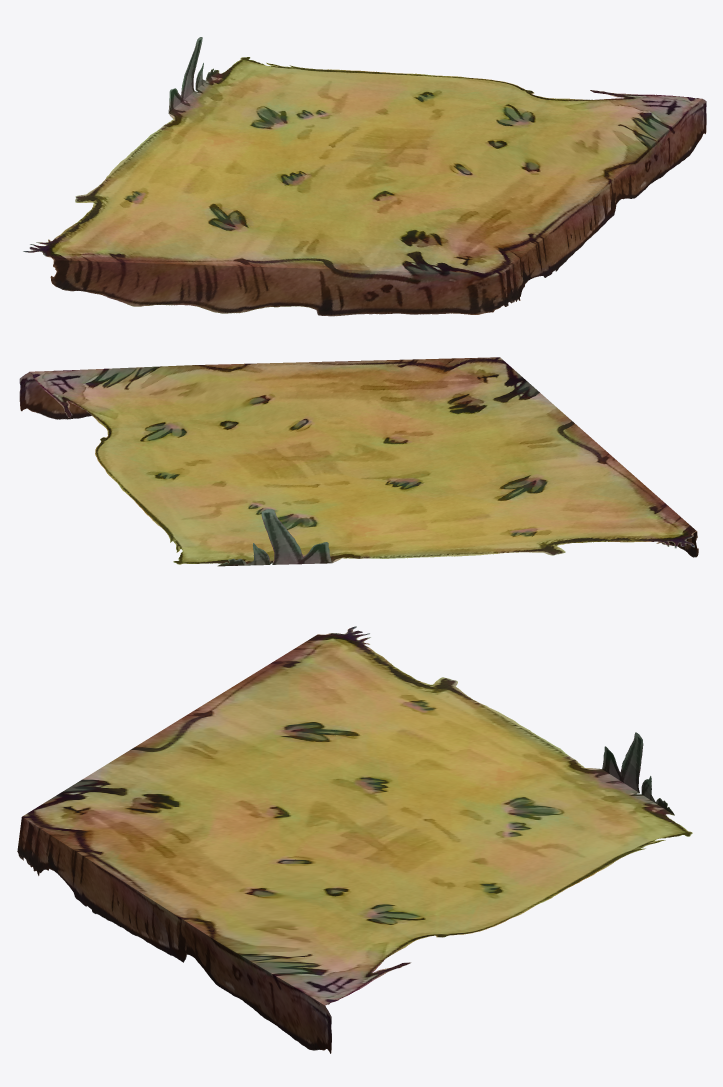
File: platform_02.fbx
3 renders of one model, top to bottom at view 1: azimuth 30°, elevation 25°; view 2: azimuth 150°, elevation 25°; view 3: azimuth 270°, elevation 25°, orthographic. The views are drawn at different scales.
Visible parts, largest first — view 1: pPlane3; view 2: pPlane3; view 3: pPlane3.
Part boxes in pixels (x1=…): pPlane3: x1=23, y1=37, x2=706, y2=316; pPlane3: x1=19, y1=357, x2=698, y2=566; pPlane3: x1=17, y1=626, x2=692, y2=1053.
Size of the model in its own units: 123 by 21.02 by 93.1.
